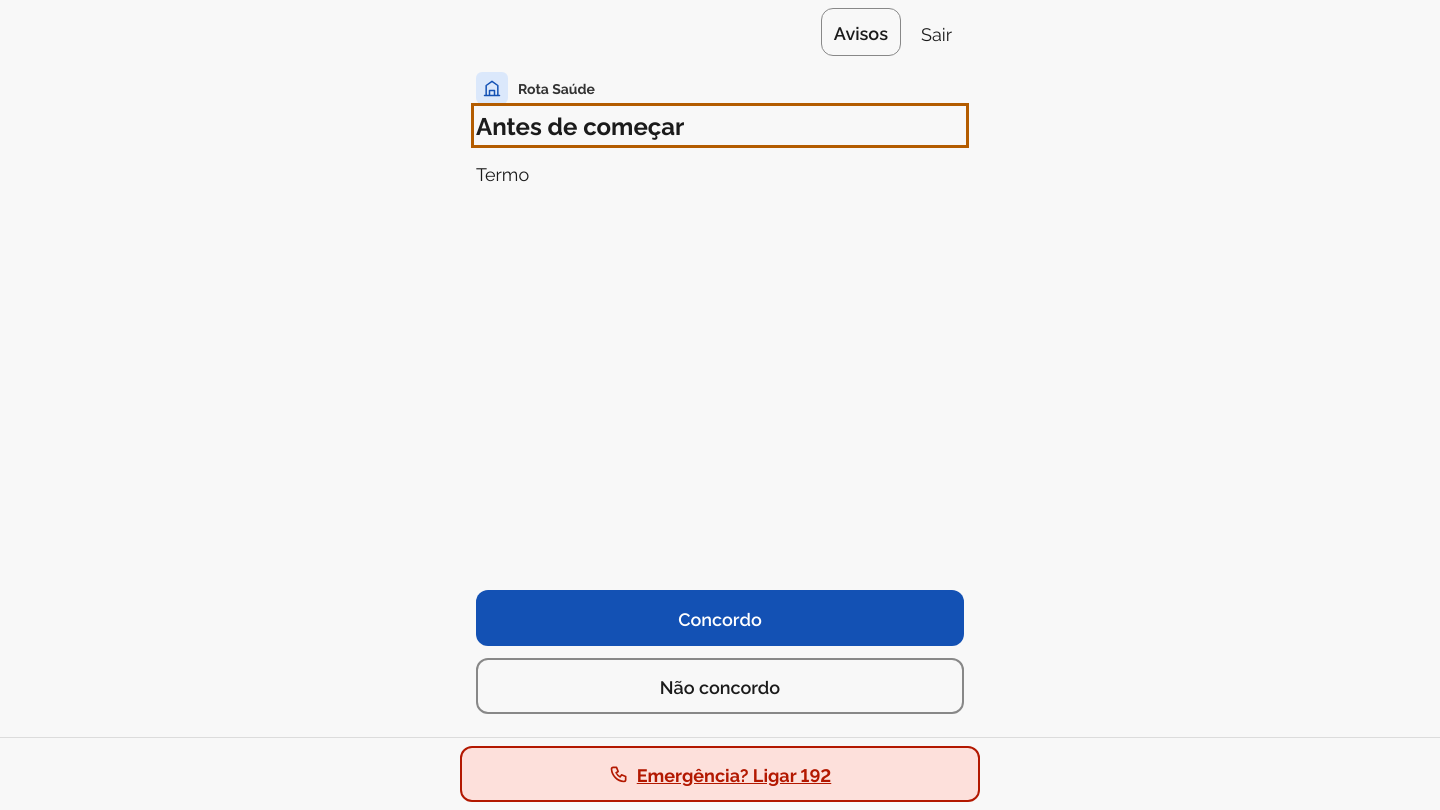
it: Flow — Meus exames (módulo 21a) › com exam_tracking: Minhas triagens → Meus exames → Voltar → Validar no posto
The image size is (1440, 810).
Click the button "Concordo".
click(720, 618)  # box x1=476 y1=590 x2=964 y2=646
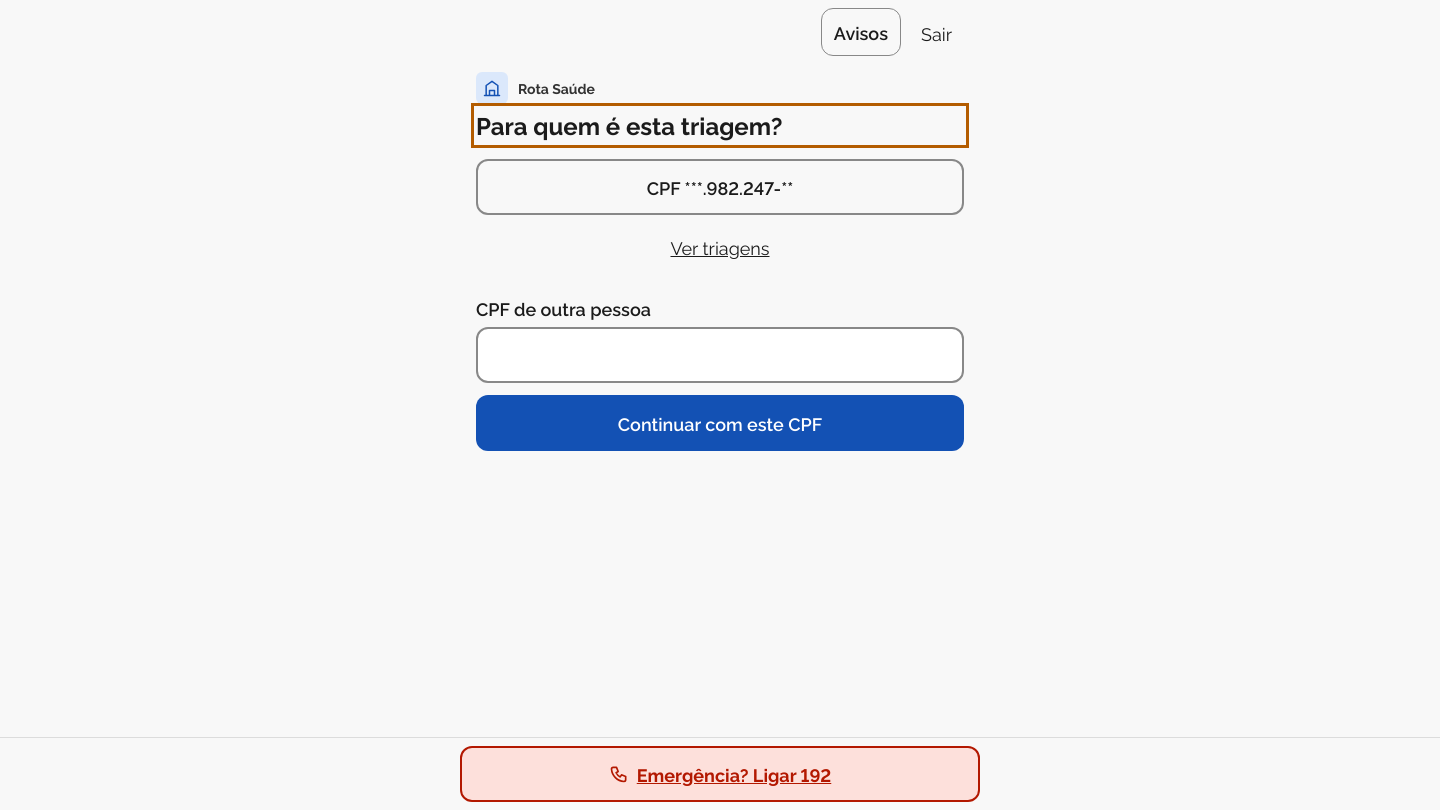
Click the button with aria-label "Ver triagens de ***.982.247-**".
click(720, 247)  # box x1=476 y1=223 x2=964 y2=271
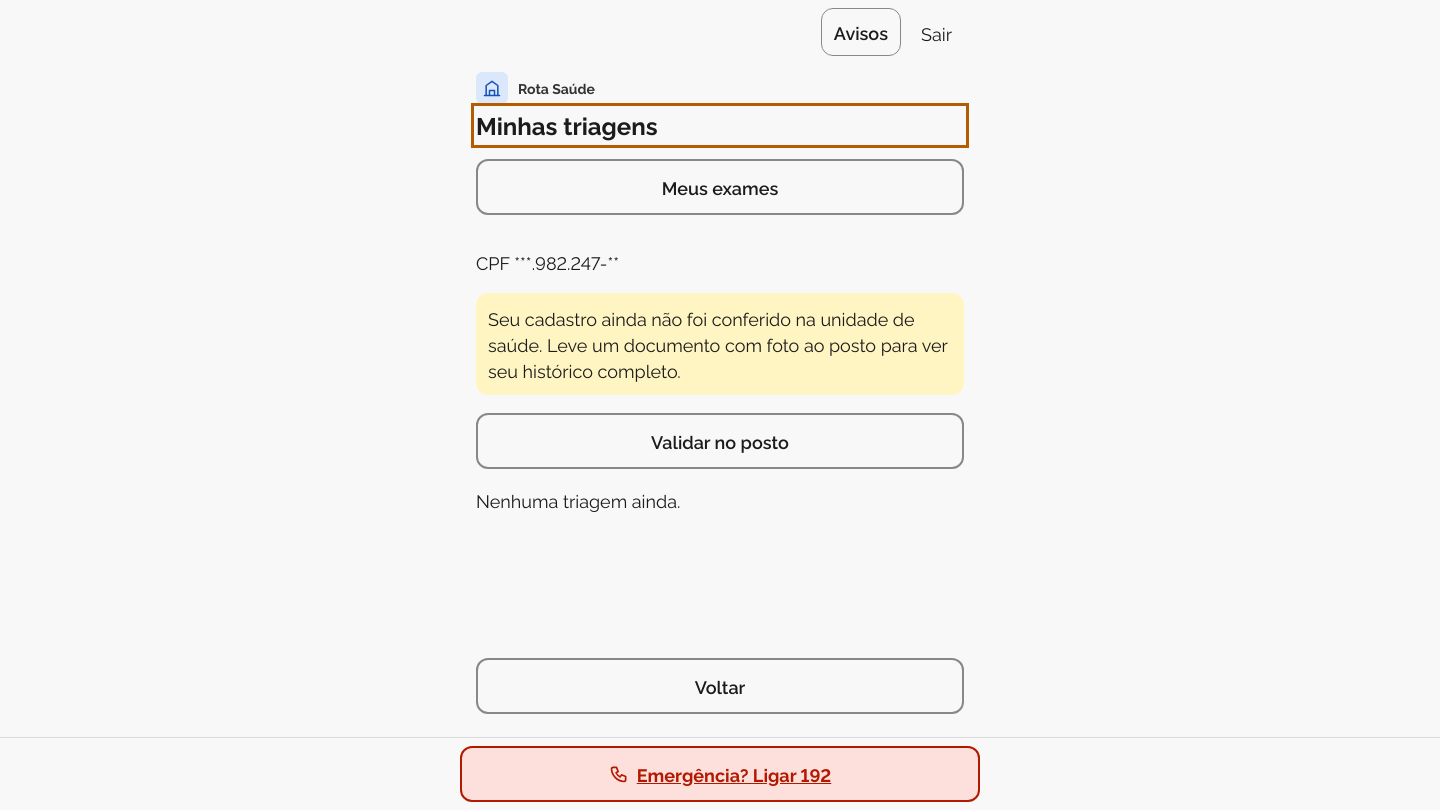
Expected: the heading "Minhas triagens" is shown, x1=476 y1=108 x2=658 y2=141
Click the button "Meus exames".
click(720, 187)  # box x1=476 y1=159 x2=964 y2=215
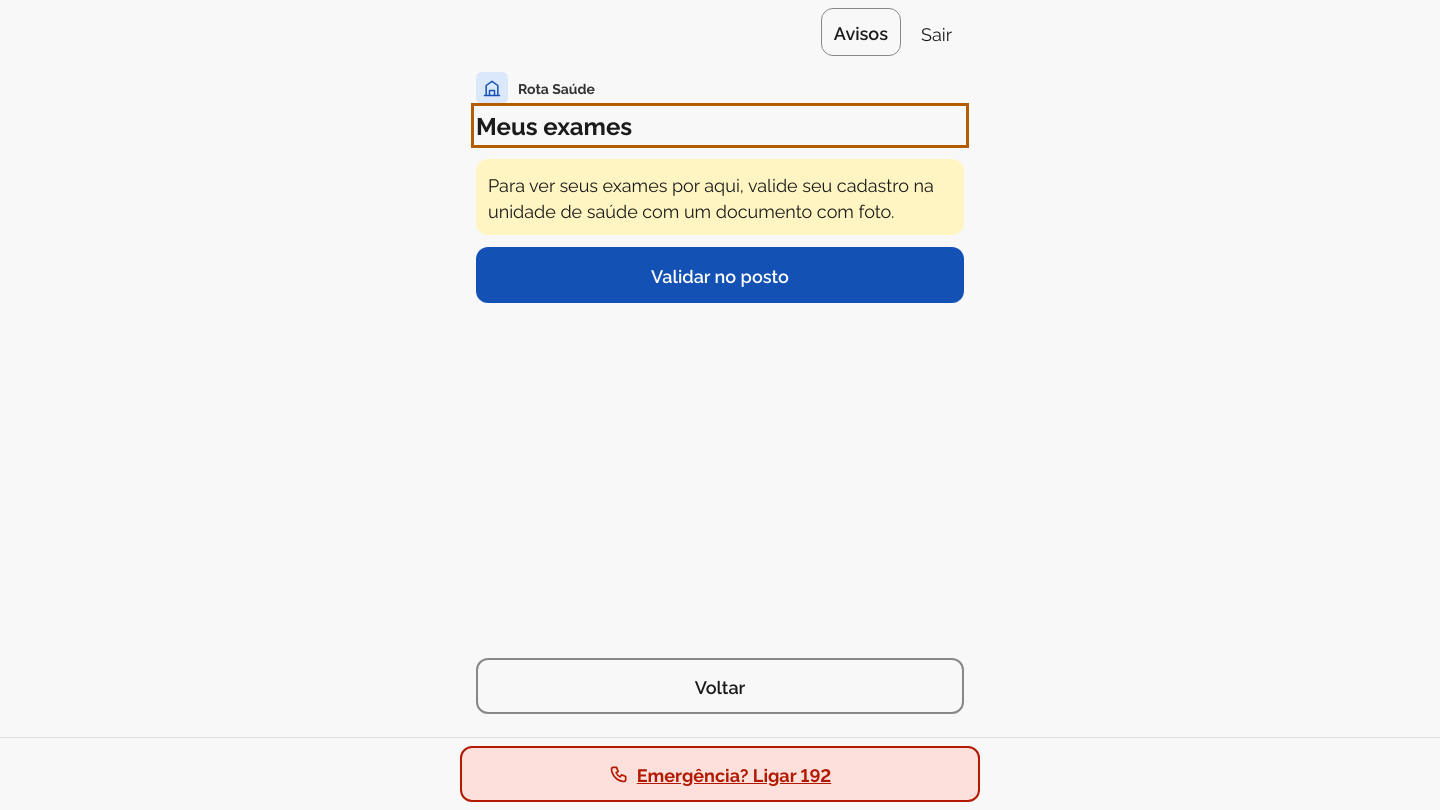
Expected: the heading "Meus exames" is shown, x1=476 y1=108 x2=632 y2=141
Expected: the text named "cadastro não validado" is shown, x1=476 y1=159 x2=964 y2=235
Click the button "Voltar".
click(720, 686)  # box x1=476 y1=658 x2=964 y2=714
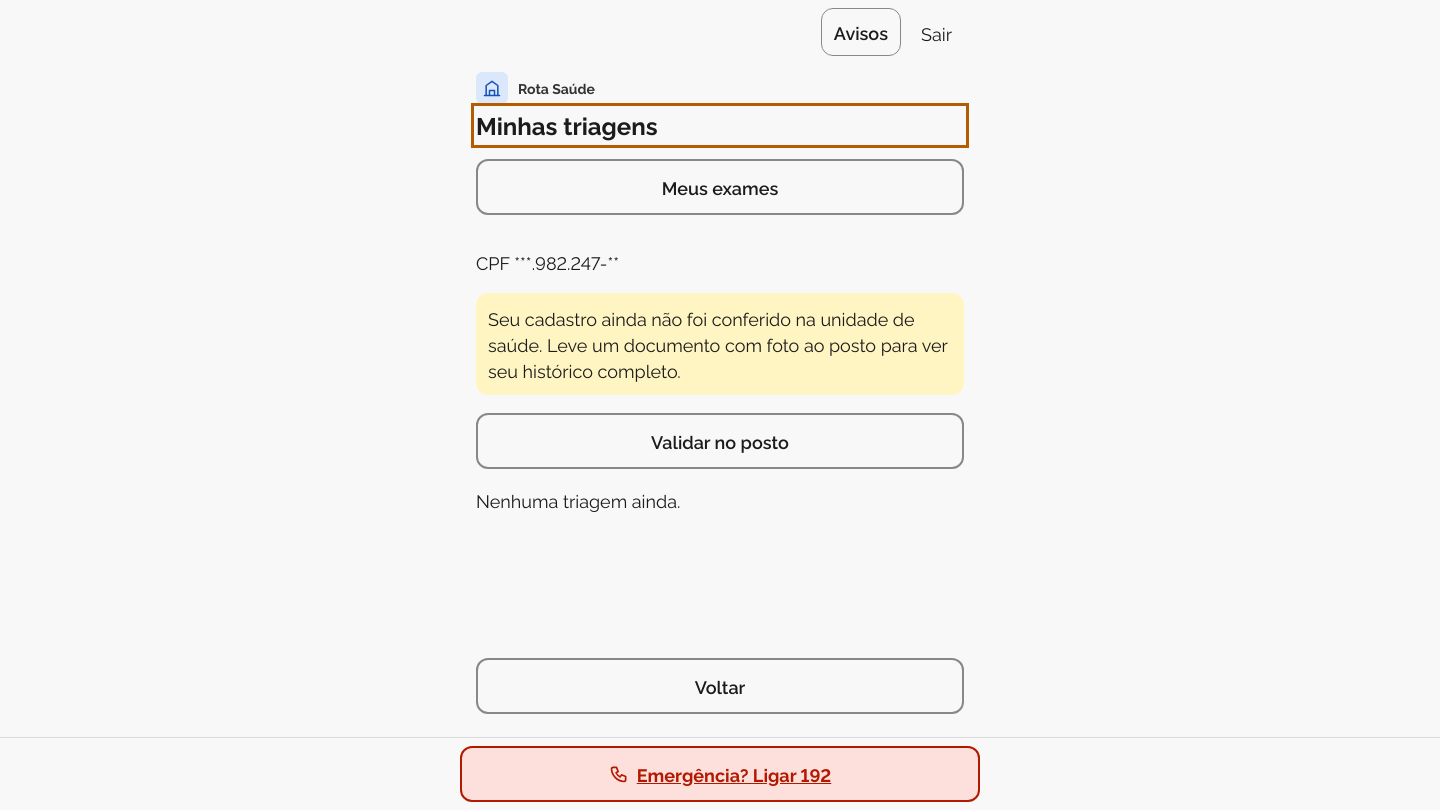
Expected: the heading "Minhas triagens" is shown, x1=476 y1=108 x2=658 y2=141
Click the button "Meus exames".
click(720, 187)  # box x1=476 y1=159 x2=964 y2=215
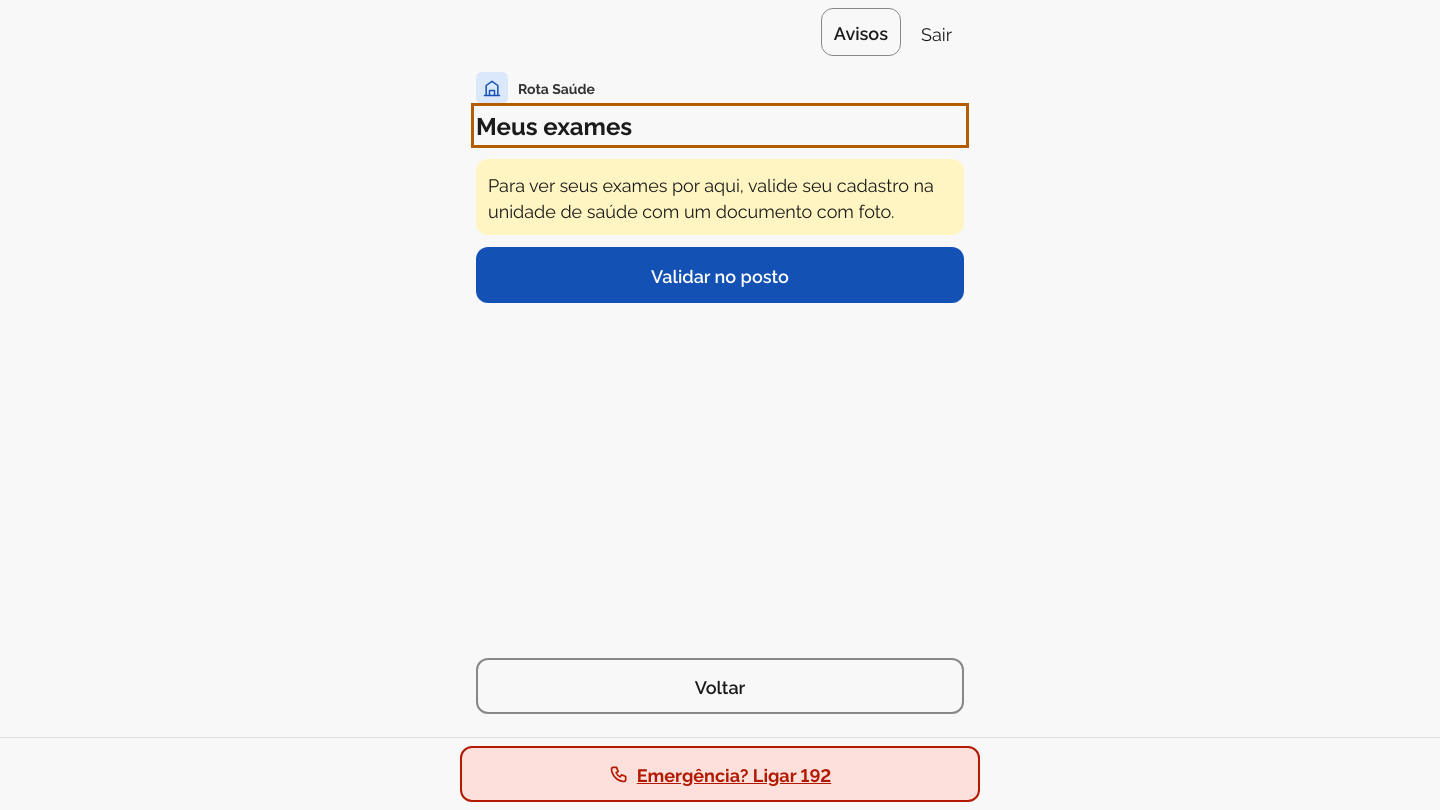
Click the button "Validar no posto".
click(720, 275)  # box x1=476 y1=247 x2=964 y2=303
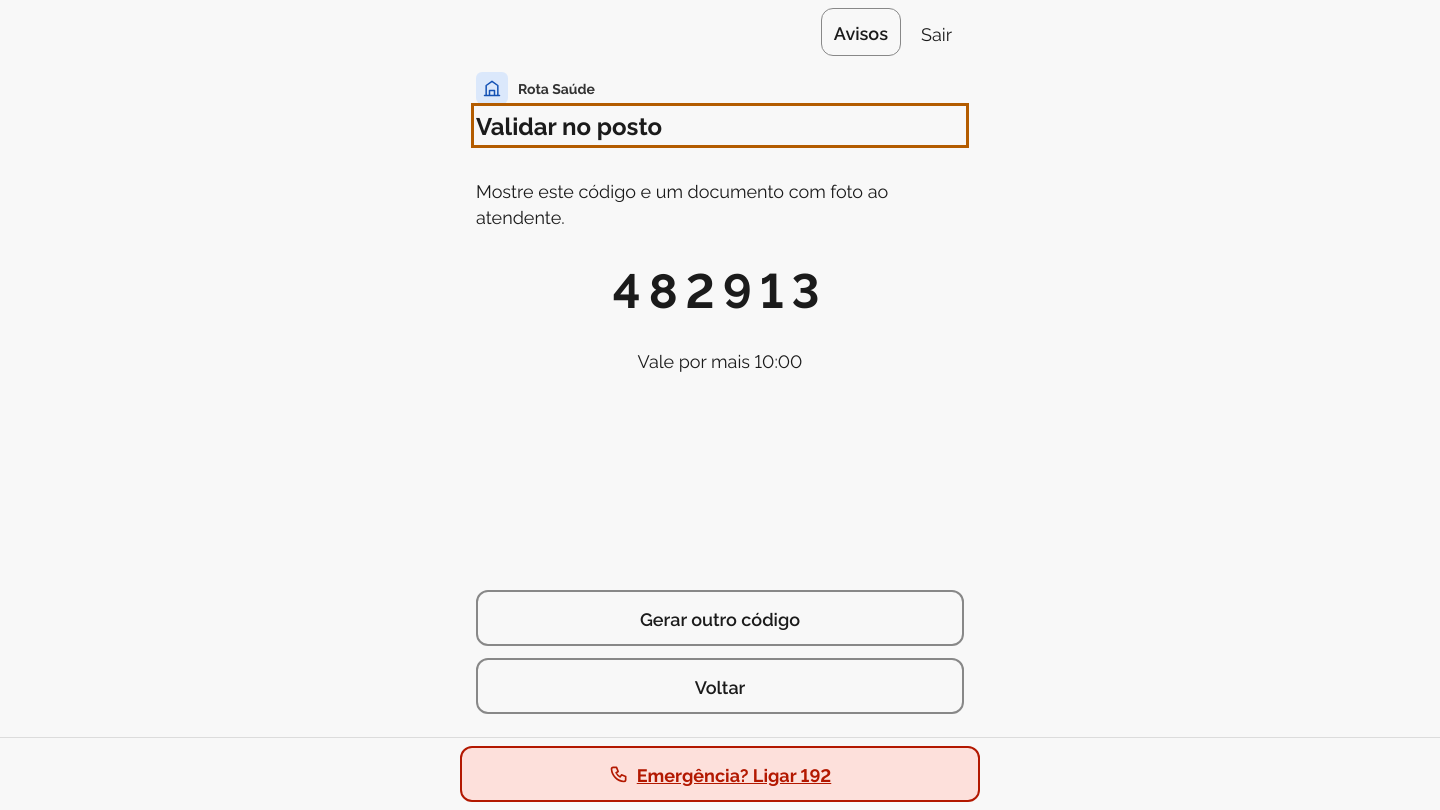
Expected: the text "482913" is shown, x1=612 y1=254 x2=828 y2=320
